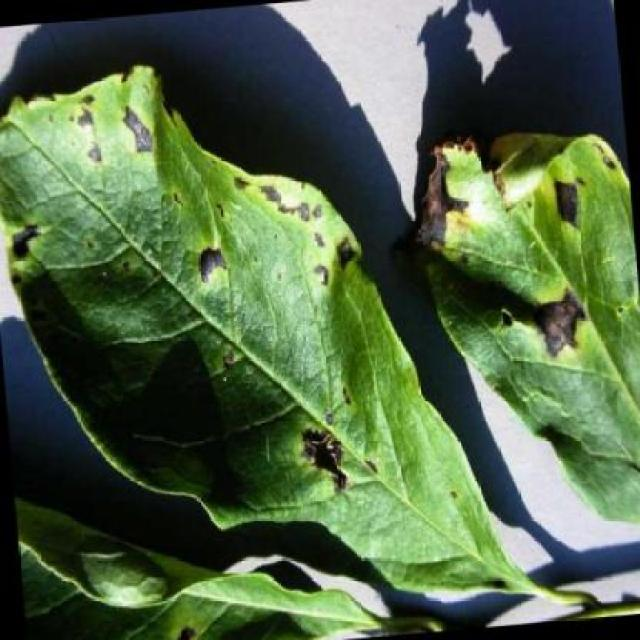Tomato leaf bacterial spot: (25, 39, 417, 566)
